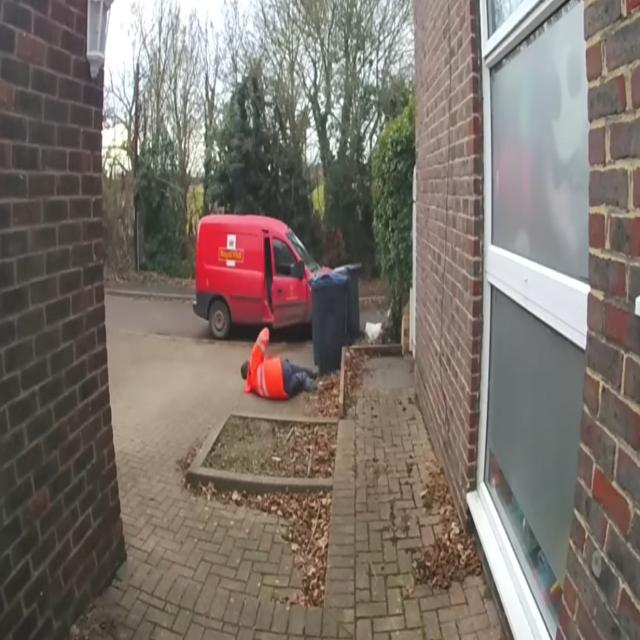fallen: (241, 327, 317, 399)
